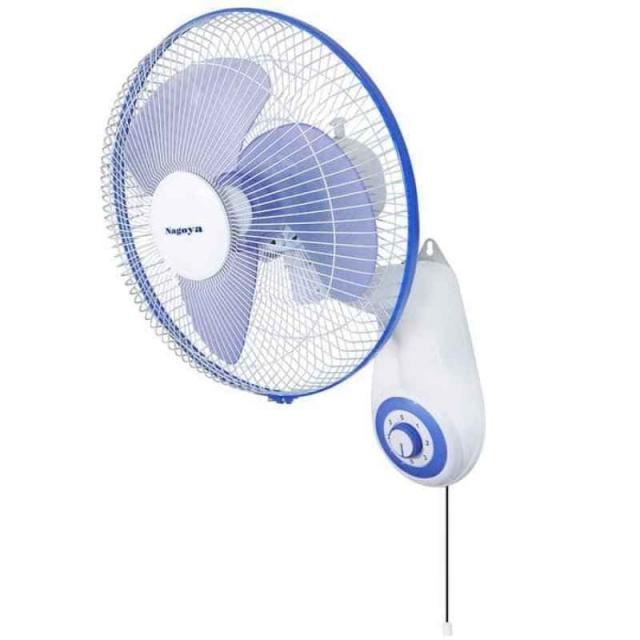fan: (92, 1, 526, 637)
